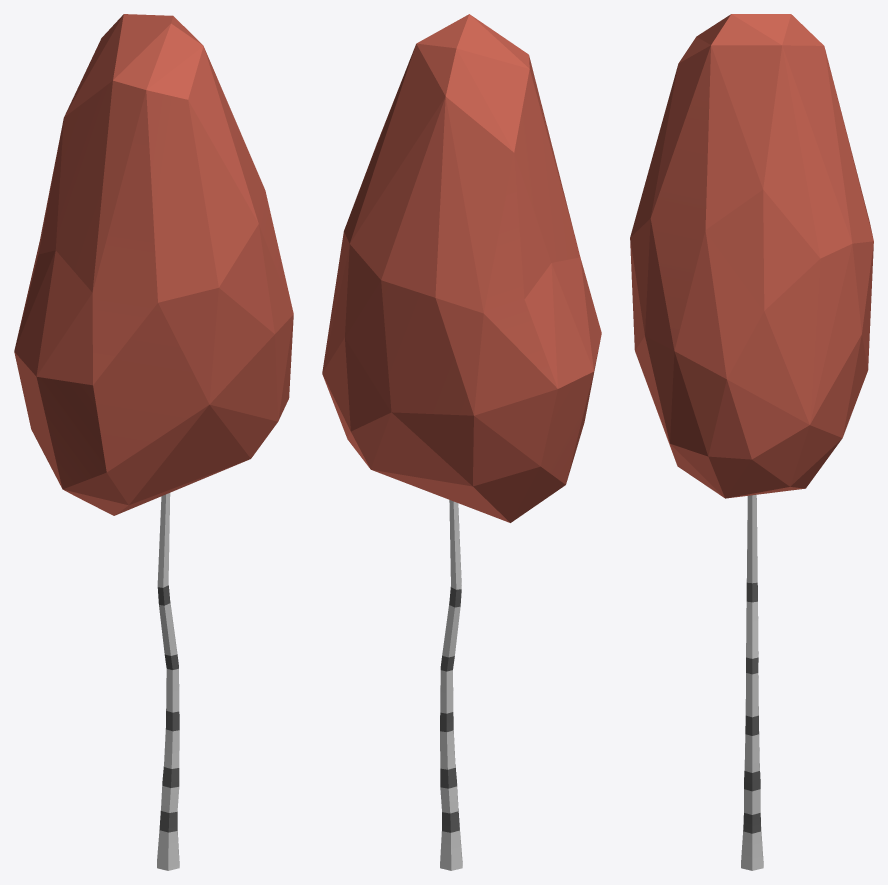
File: birch_4.fbx
3 views of the same model, side by side, from view 1: azimuth 30°, elevation 25°; view 2: azimuth 150°, elevation 25°; view 3: azimuth 270°, elevation 25° (orthographic).
Parts seen in each view (by area): view 1: birch_4; view 2: birch_4; view 3: birch_4.
Part boxes in pixels (x1=…): birch_4: x1=14, y1=14, x2=293, y2=870; birch_4: x1=322, y1=14, x2=601, y2=870; birch_4: x1=630, y1=14, x2=873, y2=870.
Size of the model in its own units: 237 by 775 by 202.
